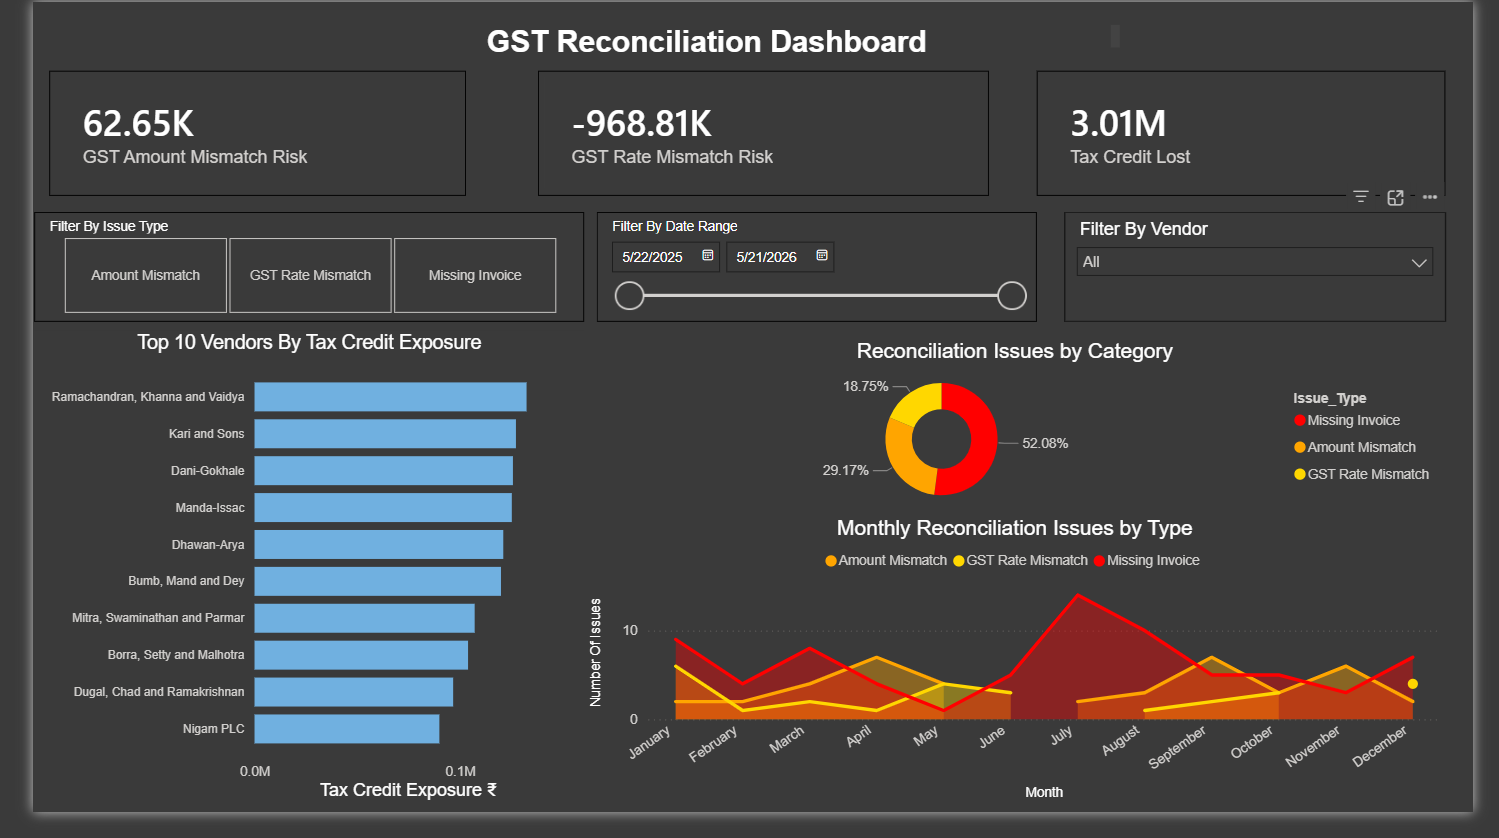

This screenshot's page, from the dashboard's own definition file:
{"tool":"powerbi","page":{"name":"Page 1","canvas":[1280,720],"ordinal":0},"visuals":[{"type":"cardVisual","fields":{"Data":["amount_mismatch.total_gst_at_risk"]},"box":[14.4,61.1,370,111.1],"z":0},{"type":"cardVisual","title":"GST At Risk (Rate) ","fields":{"Data":["Sum(gst_rate_mismatch.gst_rate_difference)"]},"box":[448.9,61.1,401.1,111.1],"z":1000},{"type":"cardVisual","fields":{"Data":["missing_invoices.Tax_credit_Lost"]},"box":[892.2,61.1,363.3,111.1],"z":2000},{"type":"textbox","box":[235.6,15.6,735.6,34.4],"z":3000},{"type":"lineChart","title":"Monthly Reconciliation Issues by Type","fields":{"Y":["CountNonNull(All Issue.Issue_Type)"],"Category":["All Issue.Invoice_Date_x.Variation.Date Hierarchy.Month"],"Series":["All Issue.Issue_Type"]},"box":[490,456.7,765.6,257.8],"z":4000},{"type":"donutChart","title":"Reconciliation Issues by Category","fields":{"Category":["All Issue.Issue_Type"],"Y":["CountNonNull(All Issue.Issue_Type)"]},"box":[490,300,765.6,156.7],"z":5000},{"type":"slicer","fields":{"Values":["All Issue.Issue_Type"]},"box":[1.1,186.7,488.9,97.8],"z":6000},{"type":"slicer","fields":{"Values":["All Issue.Invoice_Date_x"]},"box":[501.1,186.7,391.1,97.8],"z":7000},{"type":"slicer","fields":{"Values":["All Issue.Vendor_Name"]},"box":[916.7,186.7,338.9,97.8],"z":8000},{"type":"clusteredBarChart","title":"Top 10 Vendors By Tax Credit Exposure","fields":{"Category":["All Issue.Vendor_Name"],"Y":["Sum(All Issue.GST_Amount_x)"]},"box":[1.1,292.2,488.9,422.2],"z":9000}]}

Visuals, with their boxes in screenshot pixels (x1, y1, x2, y2), scaled from the page's 1280x720 canvas onto the 1499x838 screenshot:
cardVisual - amount_mismatch.total_gst_at_risk: {"left": 17, "top": 71, "right": 450, "bottom": 200}
"GST At Risk (Rate) " cardVisual: {"left": 526, "top": 71, "right": 995, "bottom": 200}
cardVisual - missing_invoices.Tax_credit_Lost: {"left": 1045, "top": 71, "right": 1470, "bottom": 200}
textbox: {"left": 276, "top": 18, "right": 1137, "bottom": 58}
"Monthly Reconciliation Issues by Type" lineChart: {"left": 574, "top": 532, "right": 1470, "bottom": 832}
"Reconciliation Issues by Category" donutChart: {"left": 574, "top": 349, "right": 1470, "bottom": 532}
slicer - All Issue.Issue_Type: {"left": 1, "top": 217, "right": 574, "bottom": 331}
slicer - All Issue.Invoice_Date_x: {"left": 587, "top": 217, "right": 1045, "bottom": 331}
slicer - All Issue.Vendor_Name: {"left": 1074, "top": 217, "right": 1470, "bottom": 331}
"Top 10 Vendors By Tax Credit Exposure" clusteredBarChart: {"left": 1, "top": 340, "right": 574, "bottom": 831}
